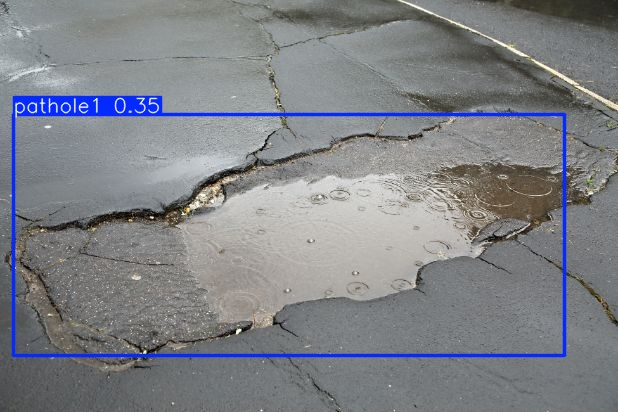pothole: (4, 98, 614, 374)
